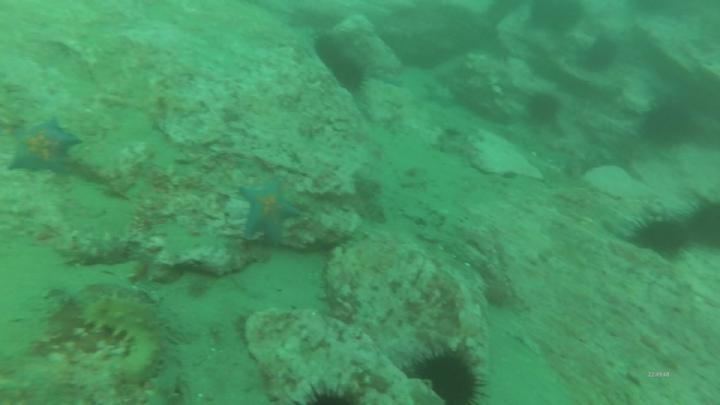echinus: (412, 346, 486, 405), (640, 96, 699, 154), (626, 213, 689, 263), (528, 1, 587, 38), (687, 198, 720, 254), (524, 90, 566, 132), (328, 55, 369, 98), (582, 35, 622, 76), (310, 32, 344, 69)
holothurian: (80, 291, 175, 394), (62, 228, 141, 272)
starfish: (236, 173, 303, 250), (7, 116, 85, 180)
